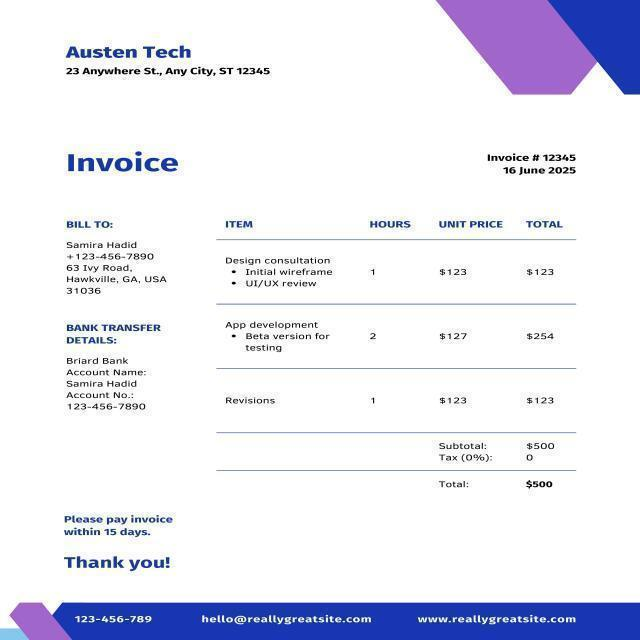paragraph: (51, 33, 289, 93), (56, 316, 184, 427), (431, 431, 581, 523), (51, 214, 173, 304), (476, 127, 597, 188), (414, 604, 588, 635), (201, 604, 380, 634), (64, 147, 192, 188), (57, 506, 189, 544), (61, 548, 184, 588), (61, 604, 172, 629)
table: (208, 211, 624, 420)
